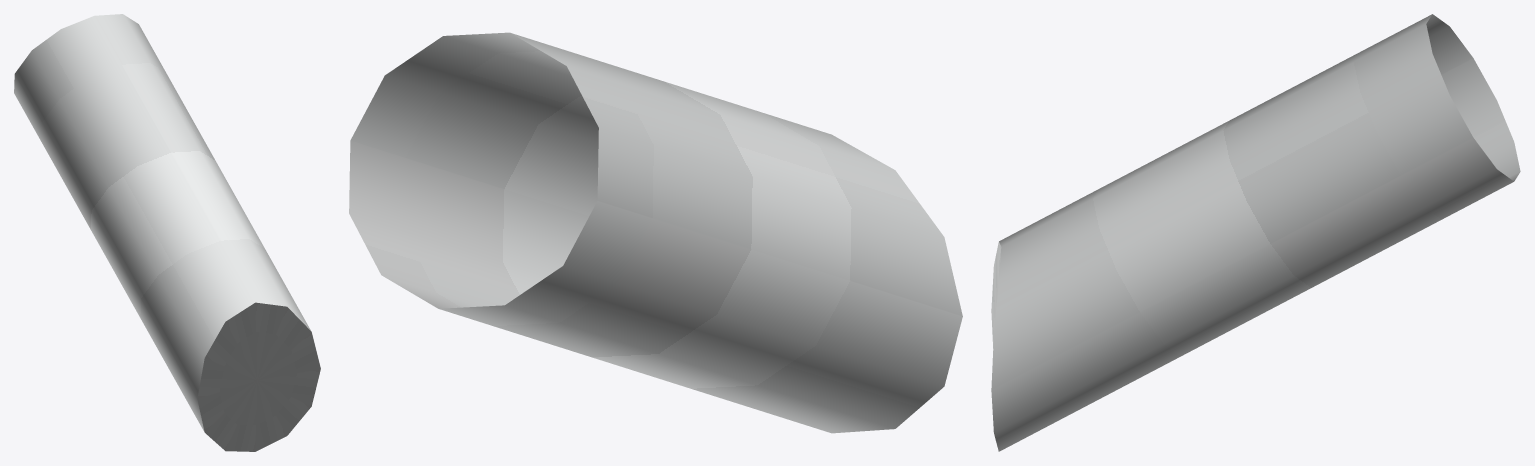
Rendered from luminairearm_truss12ftstraight_c1.obj.
3 renders of one model, left to right at view 1: azimuth 30°, elevation 25°; view 2: azimuth 150°, elevation 25°; view 3: azimuth 270°, elevation 25°, orthographic. The views are drawn at different scales.
Visible parts, largest first — view 1: luminairearm_truss12ftstraight_c1; view 2: luminairearm_truss12ftstraight_c1; view 3: luminairearm_truss12ftstraight_c1.
Boxes of the visible parts, left/top/right/bottom form: luminairearm_truss12ftstraight_c1: left=14, top=14, right=320, bottom=451; luminairearm_truss12ftstraight_c1: left=349, top=32, right=962, bottom=433; luminairearm_truss12ftstraight_c1: left=991, top=14, right=1520, bottom=451.
Bounding box in the file's own units: 0.1562 × 0.3845 × 0.4391.
